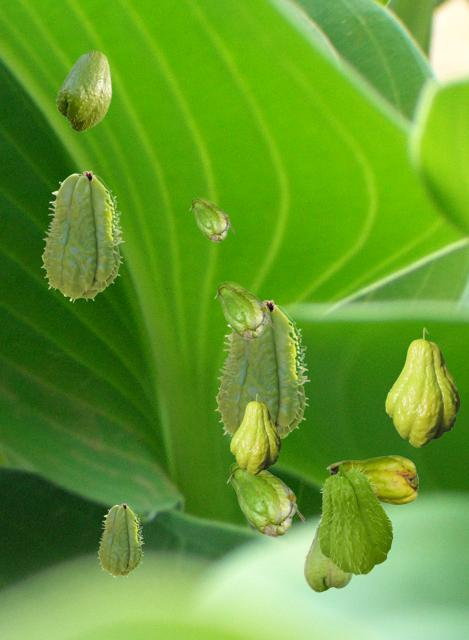sayote: (214, 299, 309, 439), (40, 170, 123, 302), (316, 461, 394, 574), (385, 327, 459, 446), (226, 461, 303, 537), (55, 50, 111, 131), (326, 455, 417, 504), (230, 393, 280, 474), (97, 503, 143, 577), (303, 523, 353, 591), (214, 281, 272, 339), (189, 197, 233, 241)
